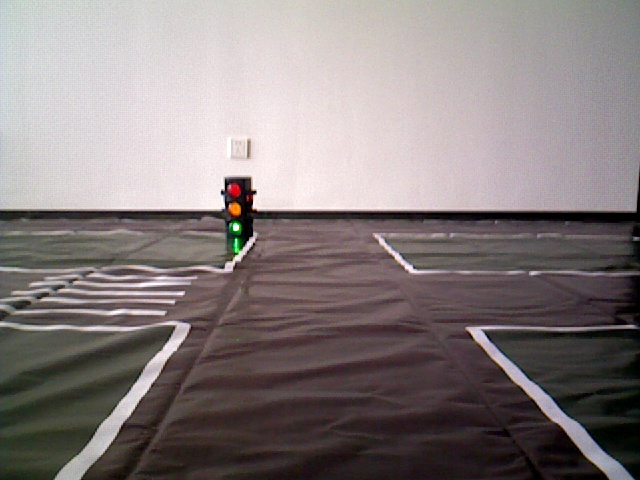green: (227, 178, 247, 234)
